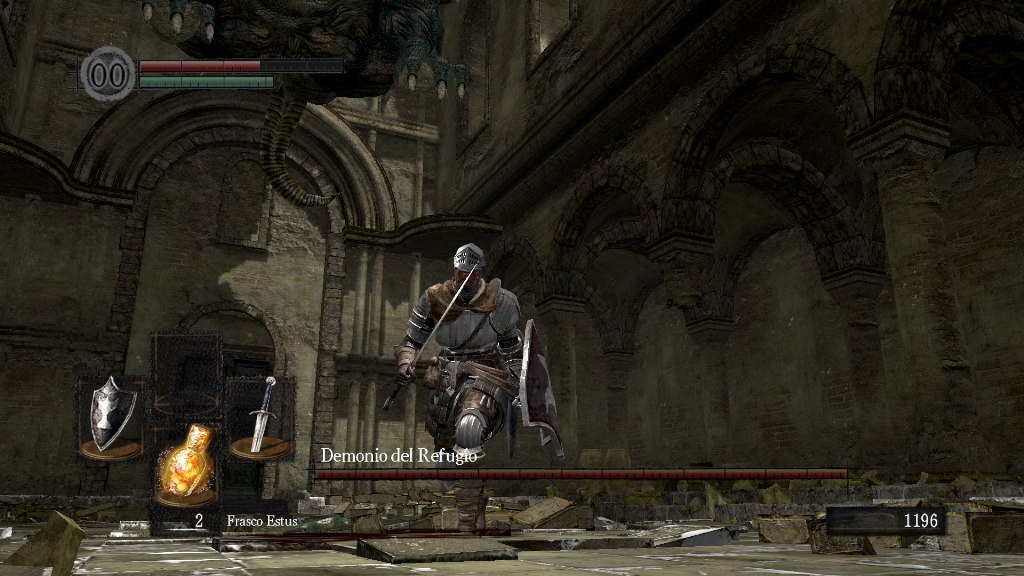asylumDemon: (132, 1, 476, 210)
bossHP: (314, 469, 847, 479)
health: (138, 58, 343, 71)
humanity: (80, 45, 136, 102)
player: (383, 241, 568, 535)
souls: (825, 506, 945, 536)
stamina: (138, 74, 274, 88)
